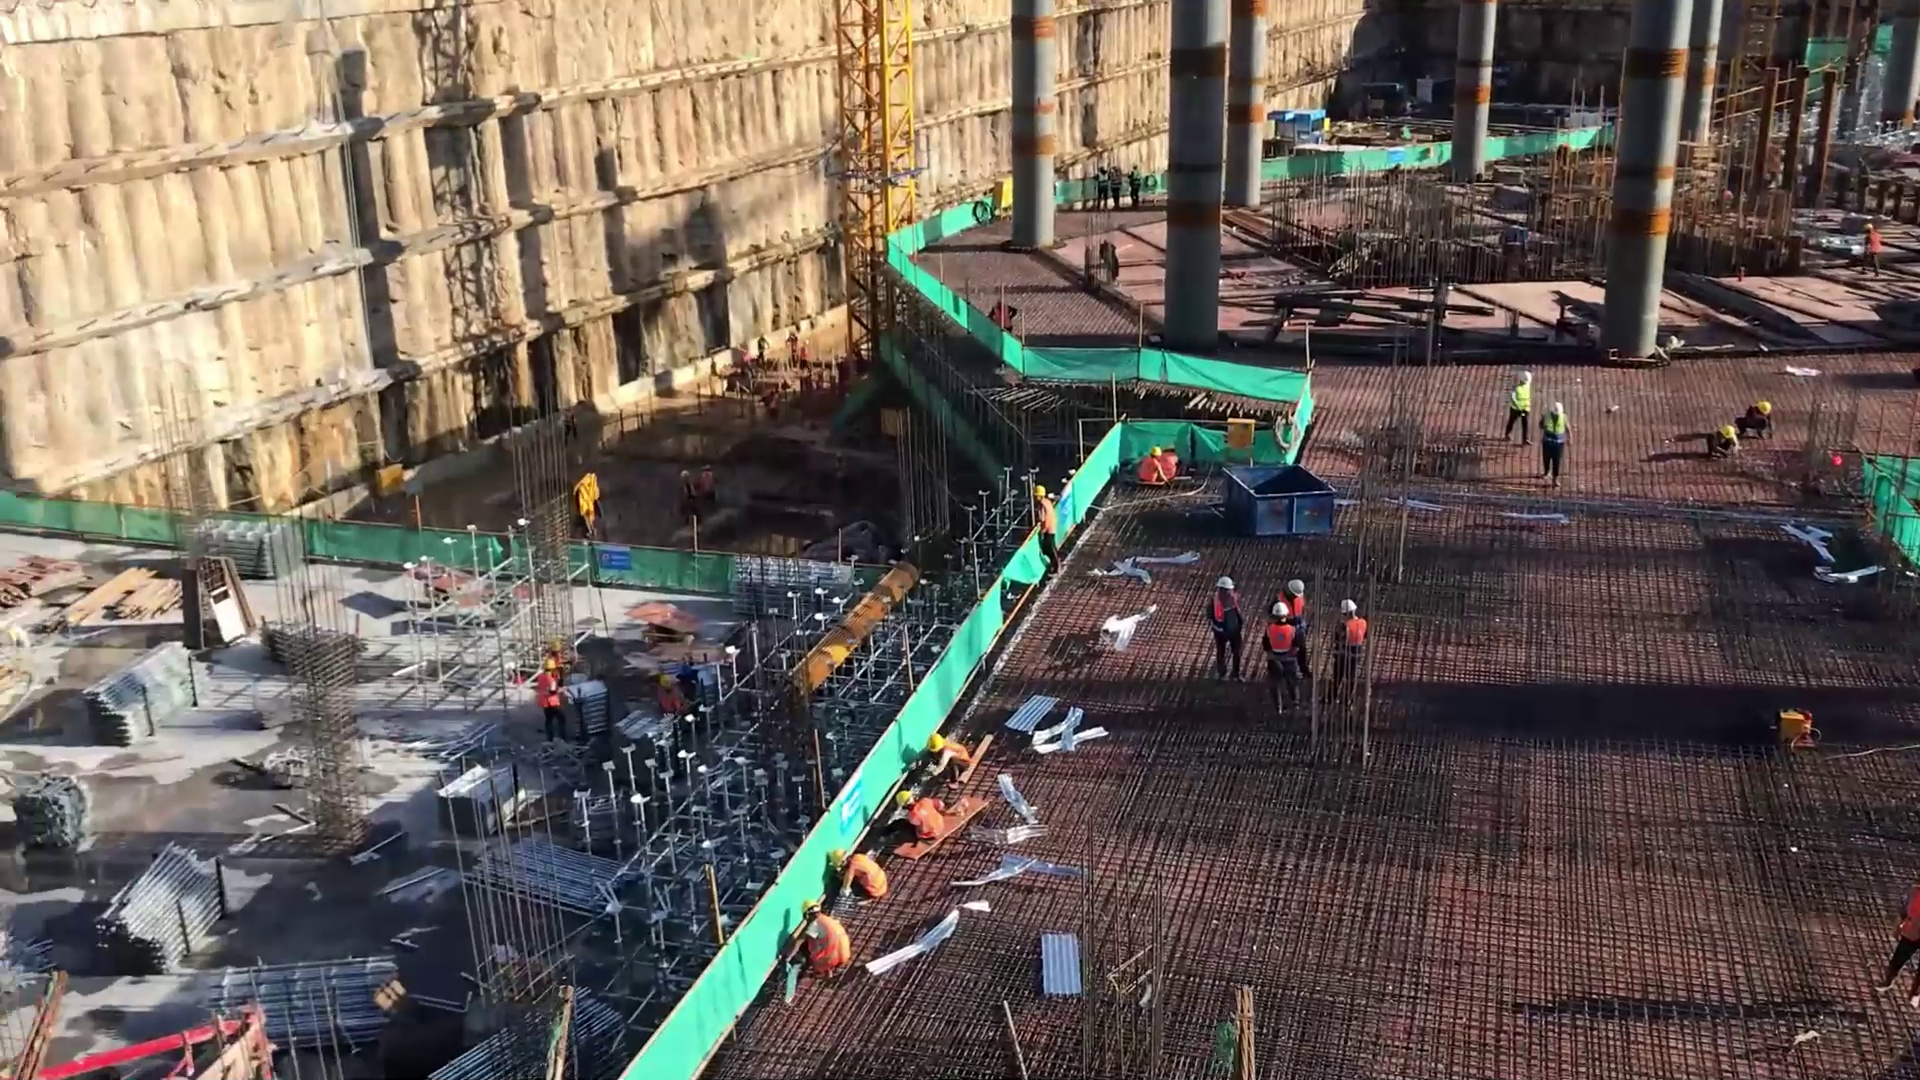helmet: (826, 845, 848, 873), (799, 896, 822, 920), (1211, 572, 1237, 593), (1717, 419, 1737, 444), (923, 732, 947, 752), (1286, 576, 1305, 598), (1270, 601, 1291, 621), (1338, 596, 1359, 616), (1515, 366, 1533, 388), (895, 788, 914, 810), (1757, 397, 1774, 420), (1032, 481, 1050, 502), (1546, 402, 1568, 416), (541, 657, 558, 674), (549, 639, 566, 657), (1860, 217, 1877, 234), (1148, 440, 1161, 462), (1161, 441, 1177, 454)
person: (788, 892, 857, 990), (1871, 882, 1920, 1013), (1260, 600, 1311, 719), (1200, 571, 1250, 689), (1326, 594, 1372, 707), (821, 842, 889, 914), (1029, 478, 1070, 582), (917, 727, 977, 794), (1535, 397, 1577, 491), (889, 787, 952, 848), (1270, 571, 1312, 649), (1500, 367, 1540, 449), (533, 656, 568, 741), (1738, 397, 1779, 448), (1855, 219, 1886, 281), (1703, 420, 1745, 463), (542, 636, 573, 684), (1136, 439, 1166, 488), (1160, 439, 1182, 486)
vest: (805, 914, 853, 983), (1260, 624, 1299, 681), (1209, 594, 1249, 647), (849, 851, 889, 903), (909, 796, 948, 845), (1890, 888, 1920, 951), (1337, 617, 1368, 673), (943, 734, 975, 775), (535, 675, 562, 711), (1033, 501, 1057, 538), (1540, 414, 1565, 448), (1279, 599, 1309, 625), (1508, 383, 1533, 414), (1158, 450, 1178, 484), (1138, 454, 1159, 484), (1864, 230, 1882, 254), (548, 652, 565, 668)
